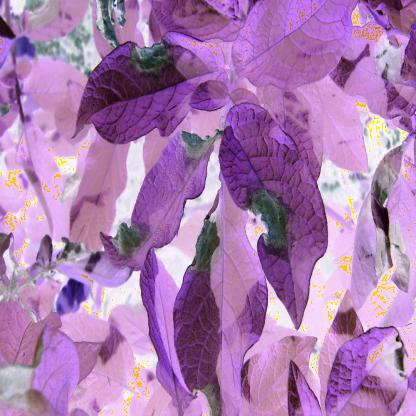potato leaf late blight: (218, 95, 328, 338), (95, 117, 226, 283), (177, 187, 266, 415), (68, 41, 223, 147)
